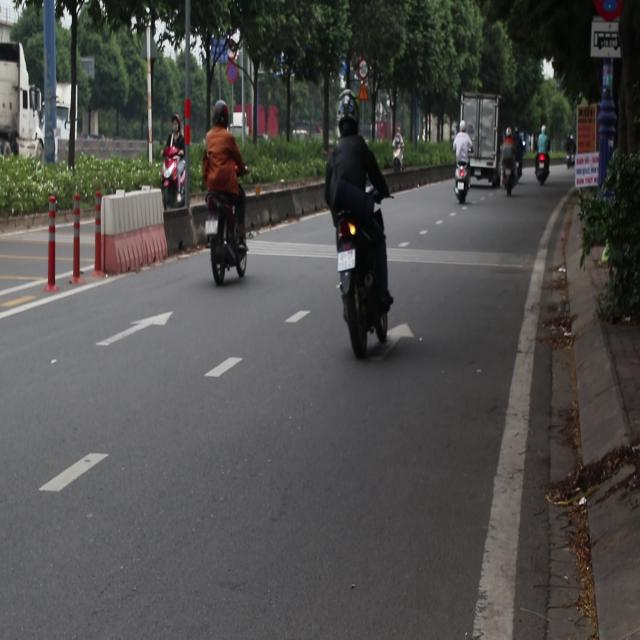motorbike: (339, 227, 395, 355), (203, 185, 257, 282), (159, 146, 183, 200), (386, 150, 410, 186), (498, 150, 517, 195), (454, 162, 470, 214), (536, 151, 552, 185), (510, 149, 520, 178)
truck: (449, 74, 505, 186), (0, 42, 42, 160), (43, 79, 101, 163)
